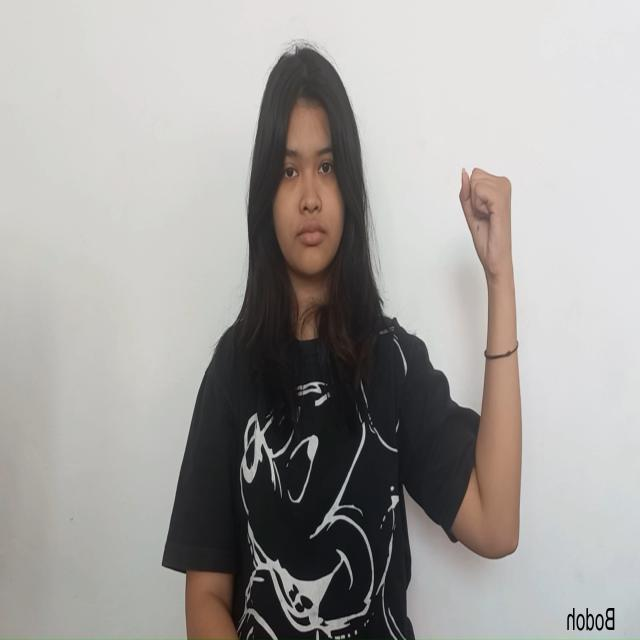Bodoh -BISINDO-: (456, 162, 516, 282)
